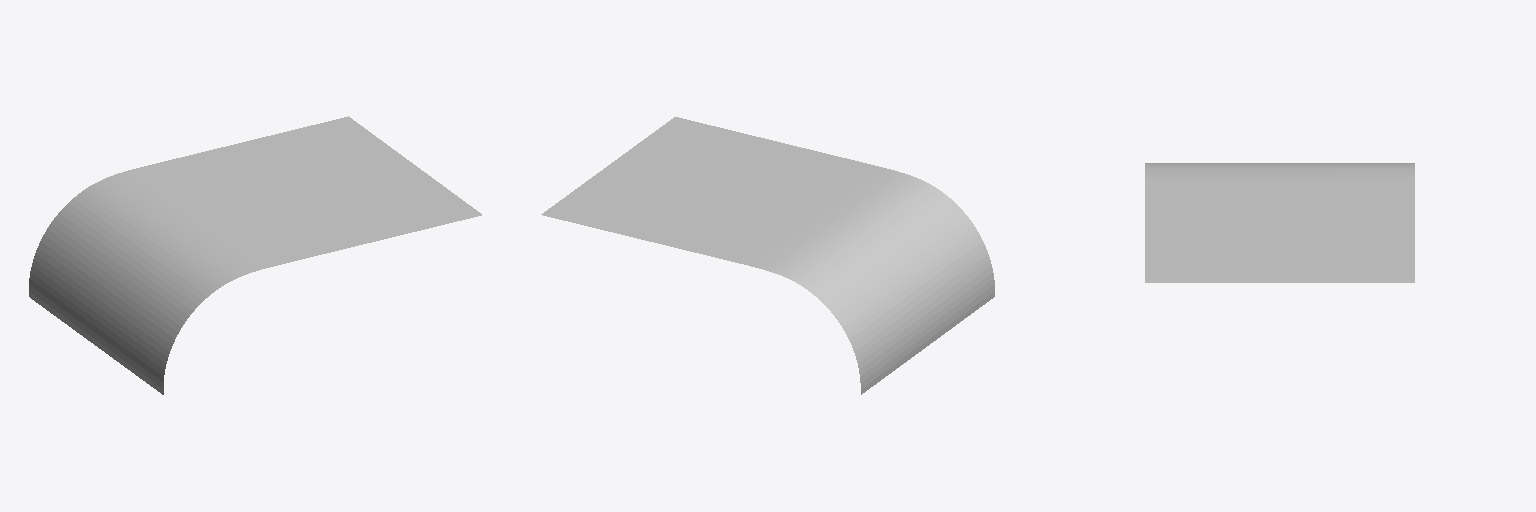
Rendered from CurvePaper_000055.obj.
3 renders of one model, left to right at view 1: azimuth 30°, elevation 25°; view 2: azimuth 150°, elevation 25°; view 3: azimuth 270°, elevation 25°, orthographic.
Parts seen in each view (by area): view 1: Plane; view 2: Plane; view 3: Plane.
Boxes of the visible parts, x1,y1,x2,y2 form: Plane: [29, 116, 481, 394]; Plane: [541, 117, 994, 394]; Plane: [1145, 163, 1414, 282].
Size of the model in its own units: 3.1 by 0.9508 by 2.26.